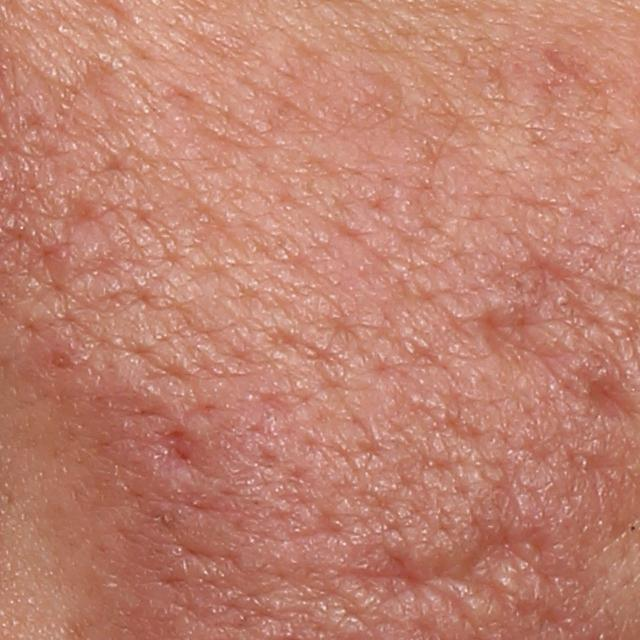atrophic_scar: (331, 508, 564, 629), (474, 303, 580, 387), (152, 426, 225, 491), (584, 366, 640, 434)
